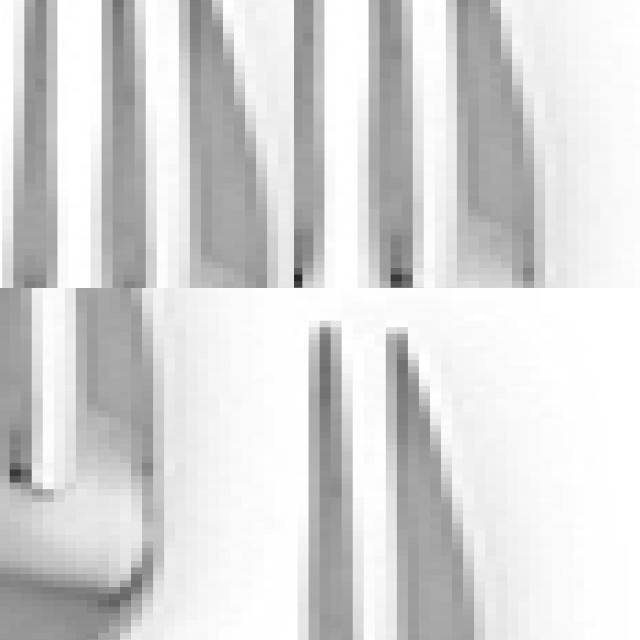forks: (294, 307, 529, 640), (212, 0, 294, 288)
